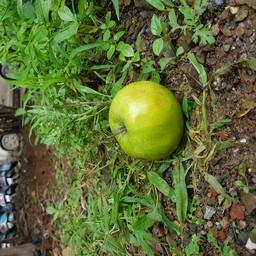Good_apple: (107, 77, 184, 162)
